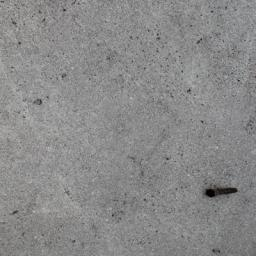FOD: (203, 182, 242, 200)
